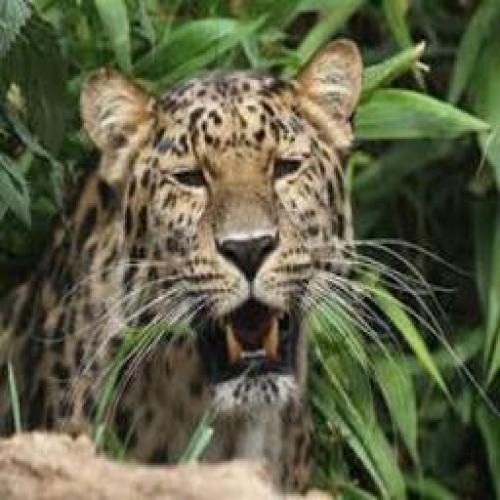amur_leopard-endangered: (0, 40, 364, 451)
